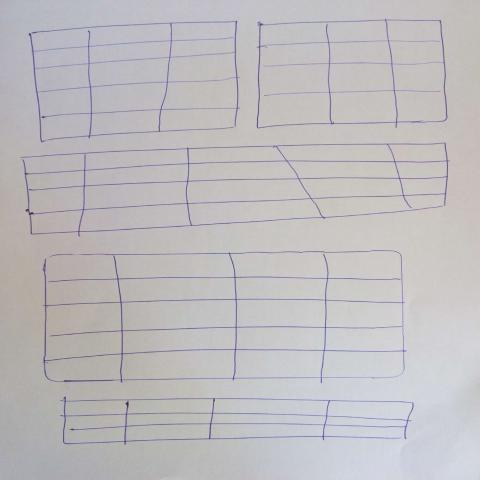Table: (43, 251, 407, 384), (21, 143, 451, 237), (30, 22, 241, 143), (257, 20, 448, 130), (61, 397, 415, 446)
